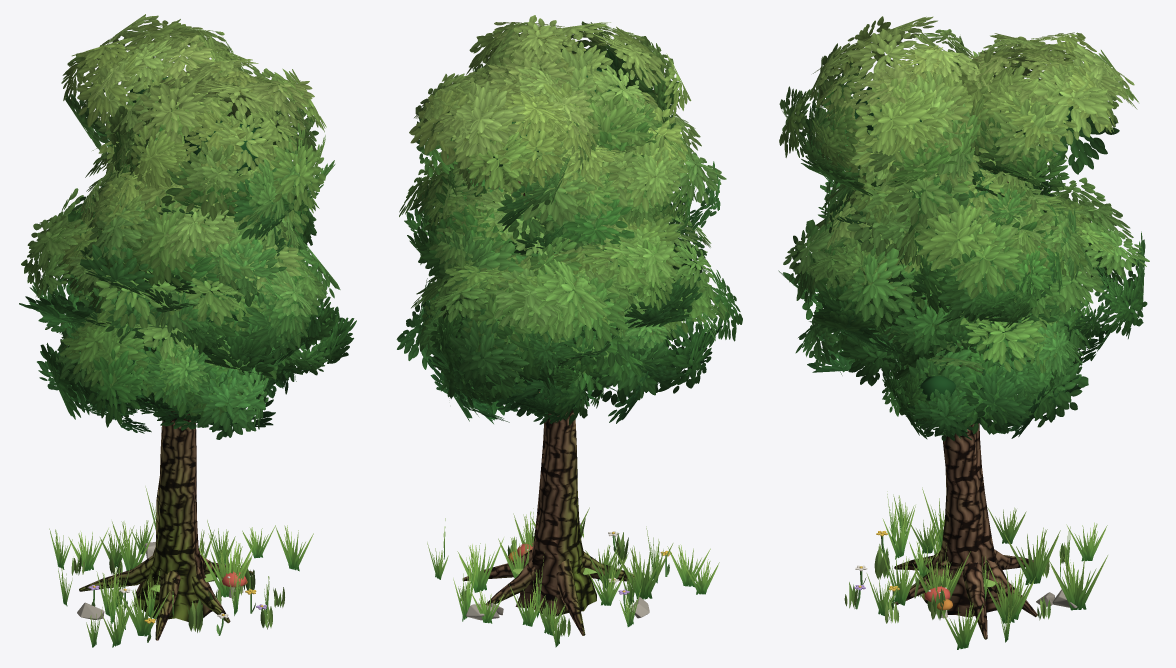
The model's file is tree_tall.gltf.
3 renders of one model, left to right at view 1: azimuth 30°, elevation 25°; view 2: azimuth 150°, elevation 25°; view 3: azimuth 270°, elevation 25°, orthographic. The views are drawn at different scales.
Visible parts, largest first — view 1: Canopy_summer, Trunk, Undergrowth, Base; view 2: Canopy_summer, Trunk, Undergrowth, Base; view 3: Canopy_summer, Undergrowth, Trunk, Base.
Part boxes in pixels (x1=…): Canopy_summer: x1=19, y1=14, x2=356, y2=439; Trunk: x1=79, y1=411, x2=252, y2=640; Undergrowth: x1=49, y1=486, x2=313, y2=647; Base: x1=71, y1=541, x2=284, y2=642; Canopy_summer: x1=396, y1=15, x2=742, y2=425; Trunk: x1=462, y1=181, x2=634, y2=635; Undergrowth: x1=427, y1=507, x2=719, y2=647; Base: x1=459, y1=518, x2=671, y2=636; Canopy_summer: x1=778, y1=16, x2=1149, y2=441; Undergrowth: x1=866, y1=487, x2=1107, y2=649; Trunk: x1=894, y1=181, x2=1037, y2=639; Base: x1=844, y1=531, x2=1077, y2=623.
Size of the model in its own units: 4.31 by 7.14 by 4.39.
17 materials, 2 textured.
